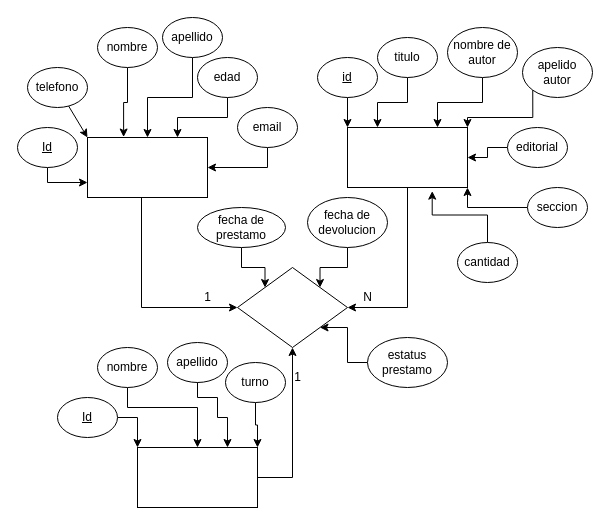
The diagram is 610 pixels wide and 525 high, and some of its shapes have lost their labels. The shapes that lost their labels are listed below. From the top down, each one's box as (x1, y1, x2, y2) in pixels, then its label:
(86, 136, 208, 198): Usuario
(346, 126, 468, 188): Libro
(236, 266, 348, 348): Pide Prestado
(136, 446, 258, 508): Staff
